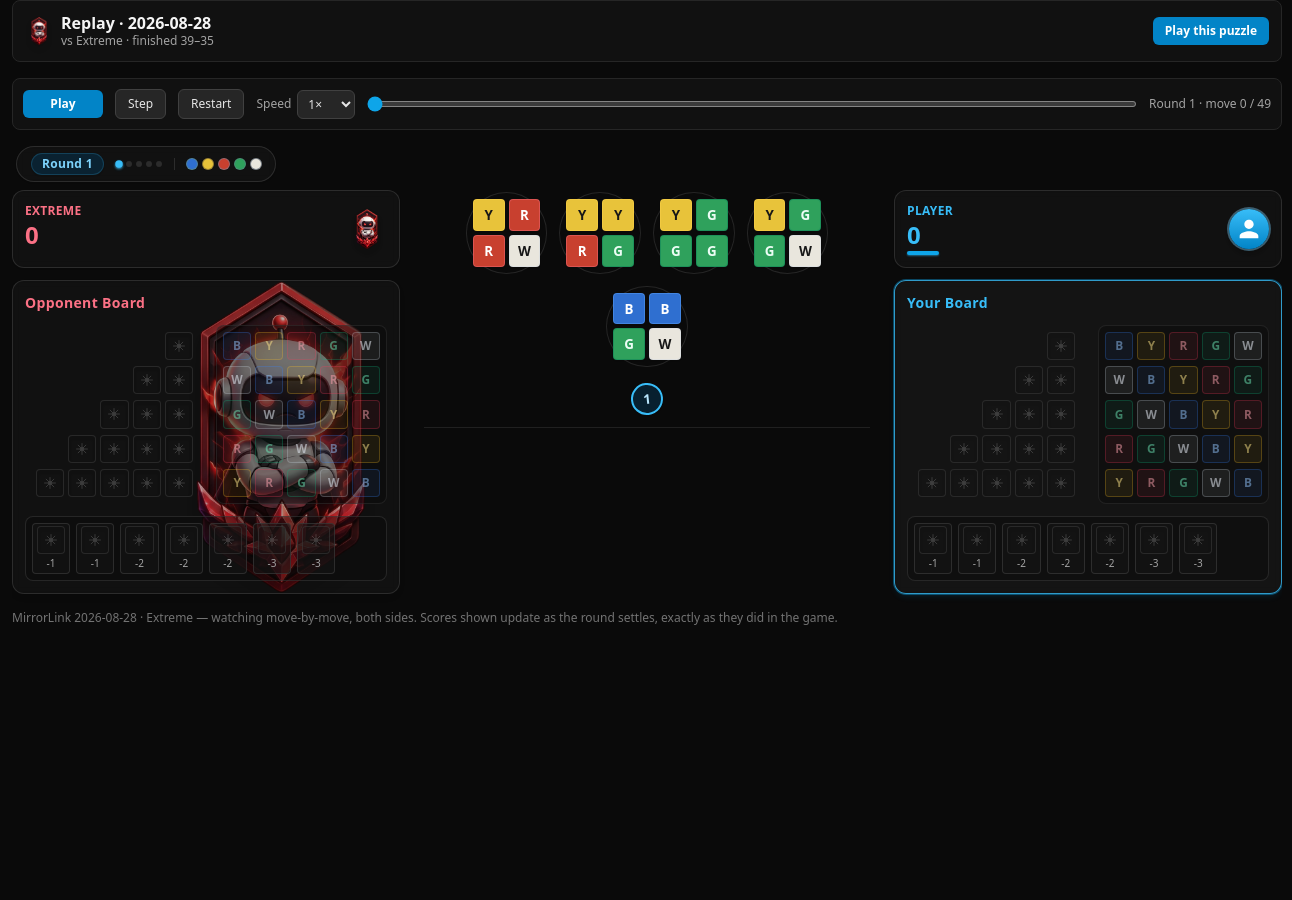
the replay page › leaves a viewer who steps first in control, without autoplay taking over
Expected: the text "Round 1 · move 0 / 49" is shown, [1149,96,1271,112]
Click the button "Step" at [141, 104], box [115,89,166,119]
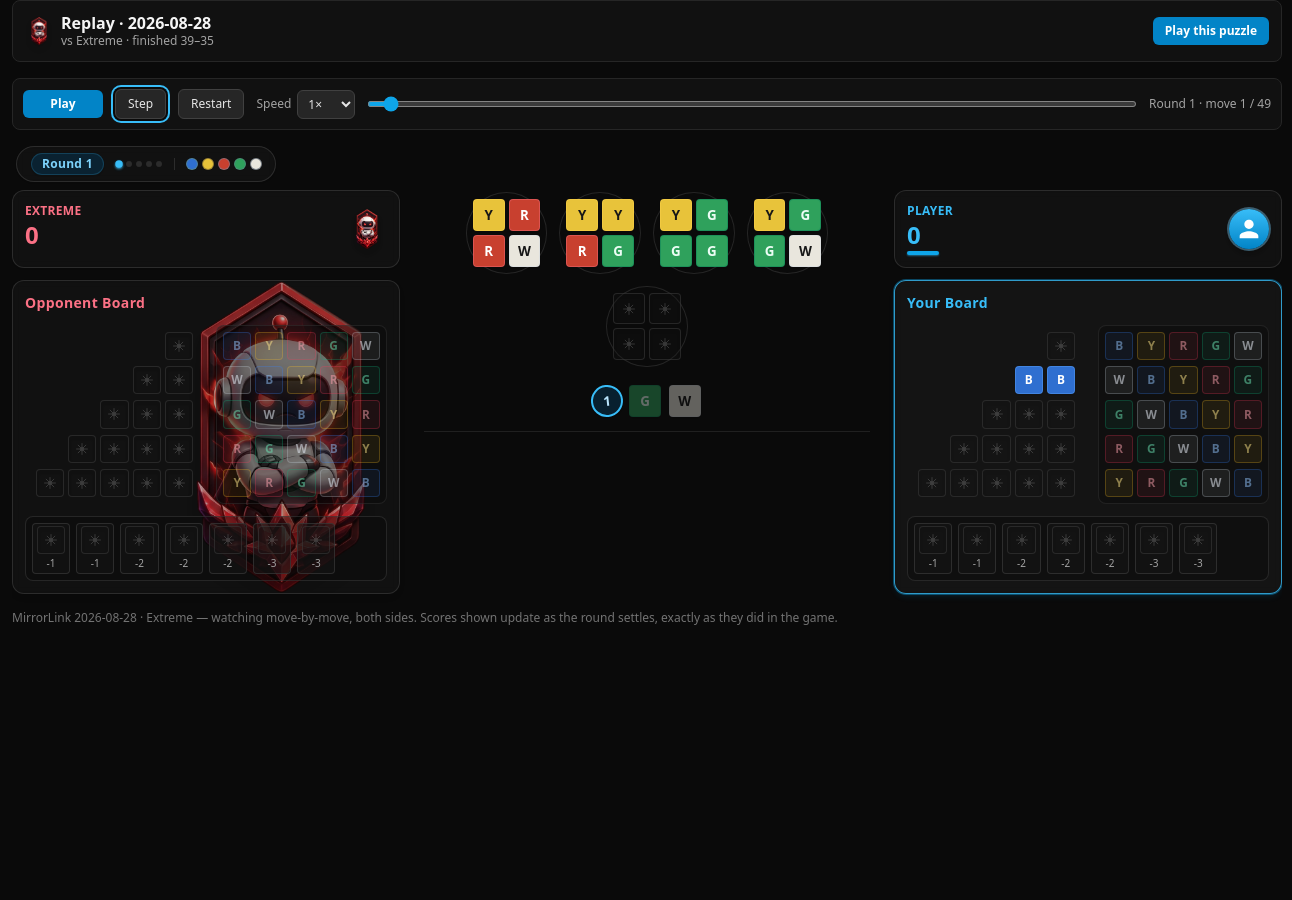
Expected: the button "Play" is shown, [23,90,103,118]
Now the text "Round 1 · move 1 / 49" is shown, box [1149,96,1271,112]
